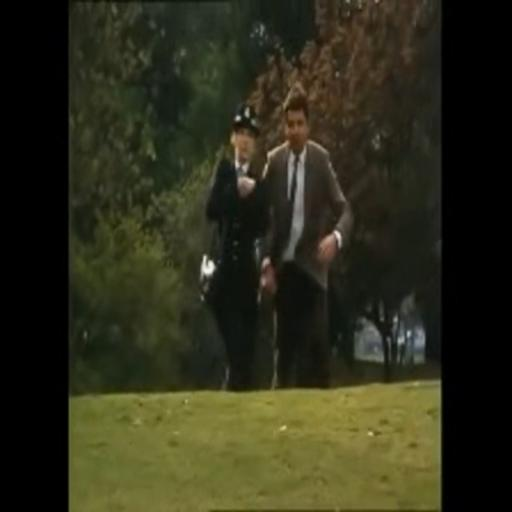nao-violencia: (186, 86, 360, 391)
